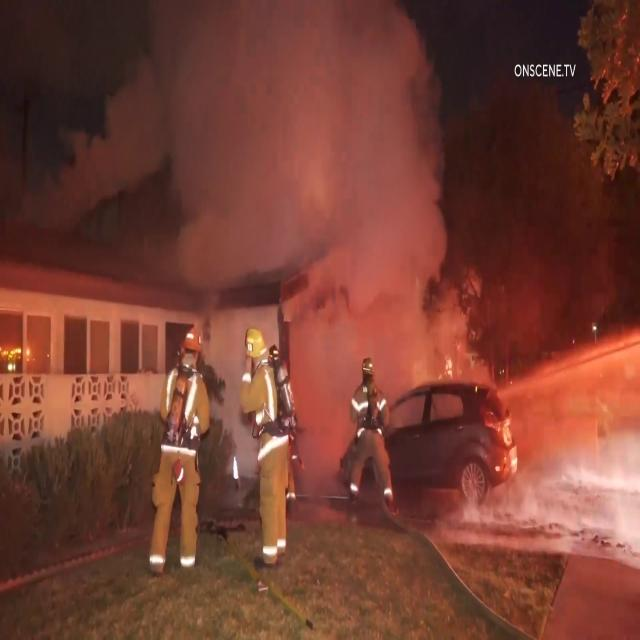smoke: (117, 8, 506, 218), (300, 221, 392, 320)
